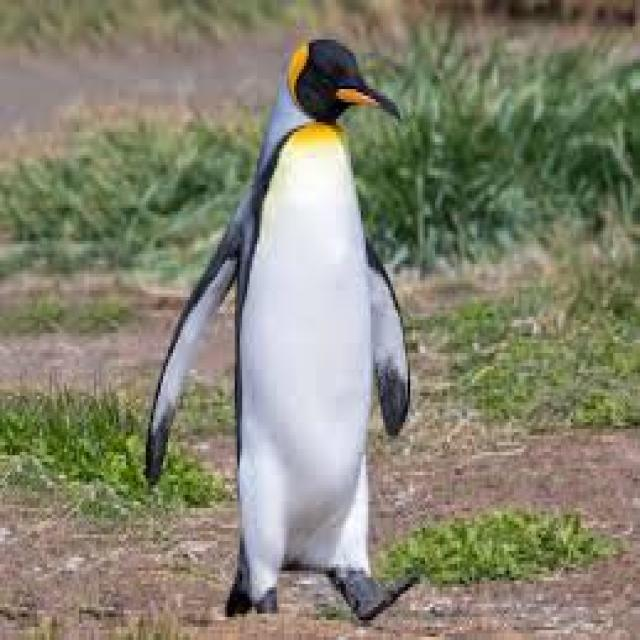penguin: (146, 40, 413, 617)
